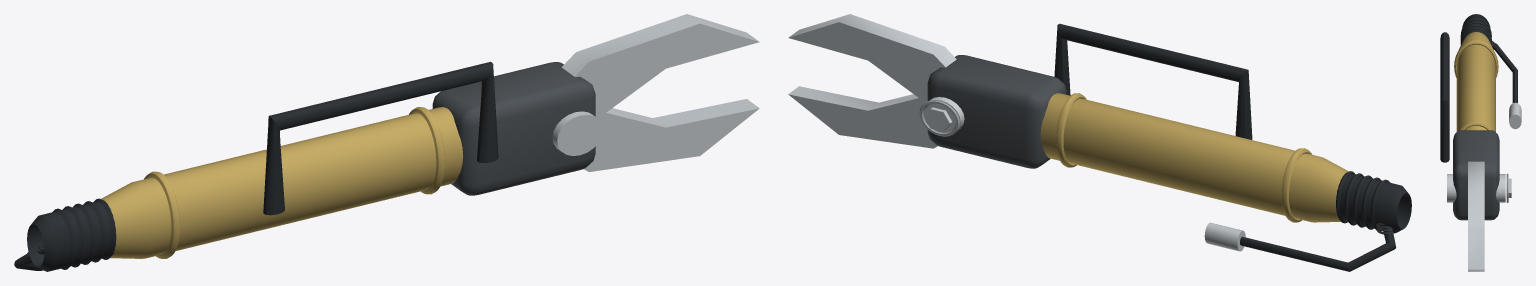
The model's file is ob_hydraulic_cutter.glb.
3 views of the same model, side by side, from view 1: azimuth 30°, elevation 25°; view 2: azimuth 150°, elevation 25°; view 3: azimuth 270°, elevation 25° (orthographic). The views are drawn at different scales.
Visible parts, largest first — view 1: ob_hydraulic_cutter; view 2: ob_hydraulic_cutter; view 3: ob_hydraulic_cutter.
Part boxes in pixels (x1,y1,x2,y2): ob_hydraulic_cutter: (14,14,759,271); ob_hydraulic_cutter: (788,14,1411,271); ob_hydraulic_cutter: (1440,14,1521,271).
Size of the model in its own units: 0.84 by 0.18 by 0.13.
